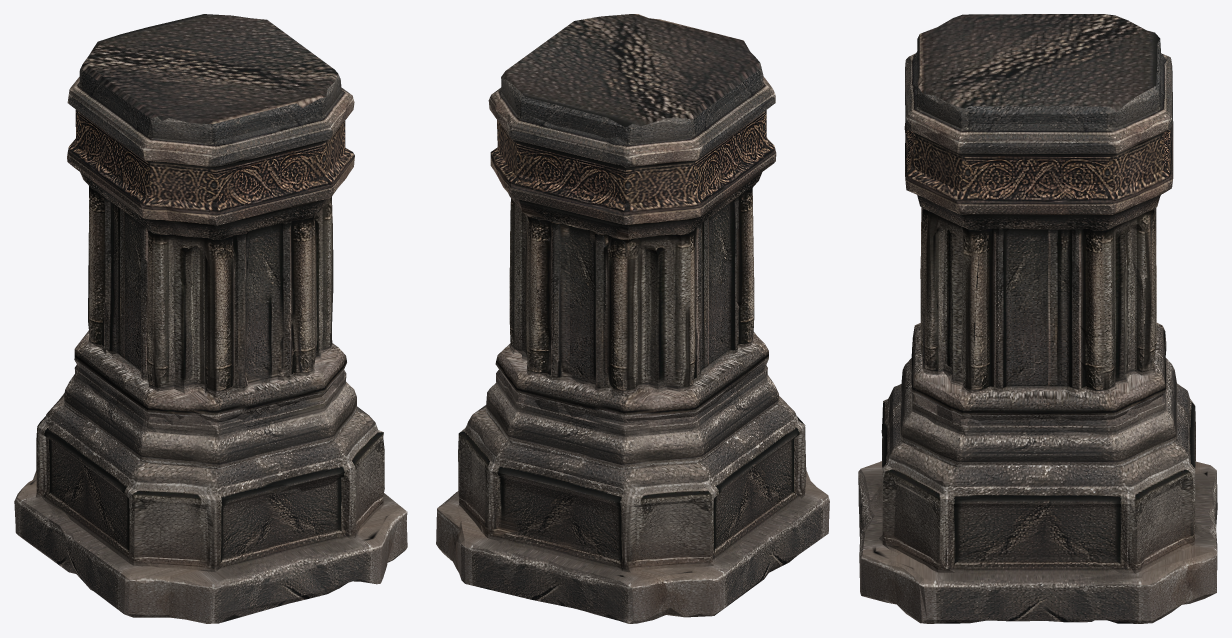
File: HC_STHall_Wallcolumn_05.fbx
The picture shows the model from 3 angles, left to right: view 1: azimuth 30°, elevation 25°; view 2: azimuth 150°, elevation 25°; view 3: azimuth 270°, elevation 25°; orthographic projection. The views are drawn at different scales.
Visible parts, largest first — view 1: HC_STHall_Wallcolumn_05; view 2: HC_STHall_Wallcolumn_05; view 3: HC_STHall_Wallcolumn_05.
Part boxes in pixels (x1,y1,x2,y2): HC_STHall_Wallcolumn_05: (14, 14, 407, 623); HC_STHall_Wallcolumn_05: (436, 14, 829, 623); HC_STHall_Wallcolumn_05: (858, 14, 1217, 623).
Size of the model in its own units: 1.23 by 1.3 by 1.98.
